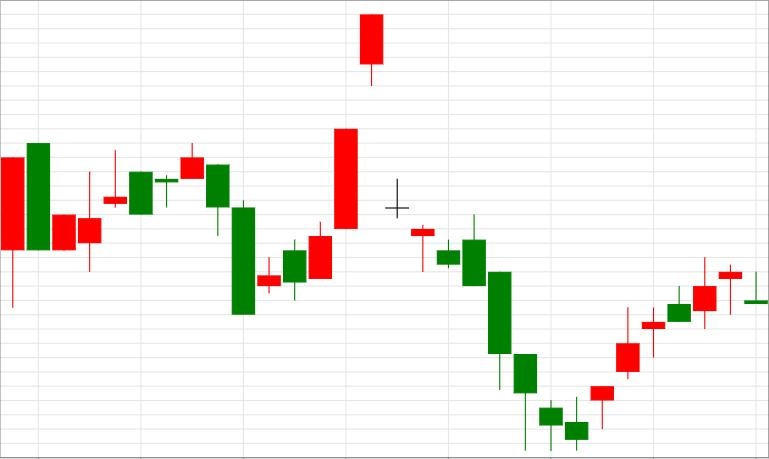hammer_rise: (437, 215, 537, 451)
three_white_soldiers_rise: (206, 14, 383, 314)
